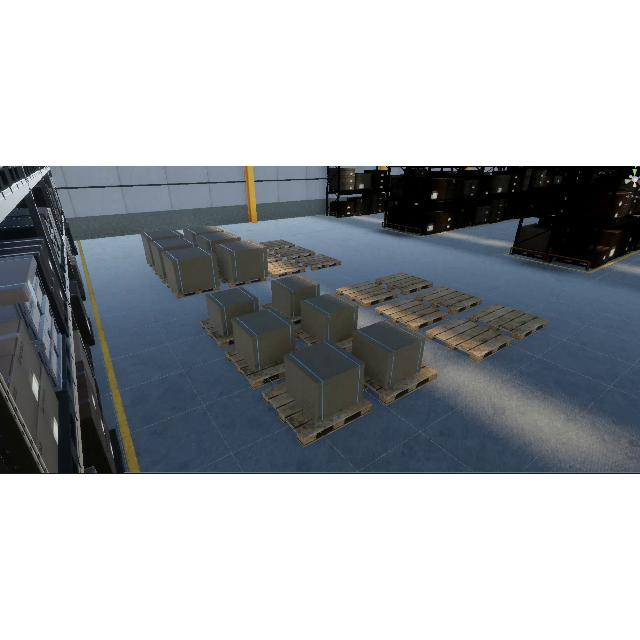wooden_pallet: (262, 382, 373, 447), (424, 317, 513, 364), (363, 362, 437, 405), (467, 303, 548, 342), (223, 348, 286, 389), (375, 297, 449, 331), (415, 285, 483, 315), (335, 280, 399, 308), (375, 271, 433, 295), (201, 317, 235, 347), (296, 252, 341, 271), (165, 282, 221, 297), (219, 272, 267, 288), (267, 260, 306, 279), (274, 246, 317, 260), (257, 239, 295, 251), (267, 250, 282, 264)
